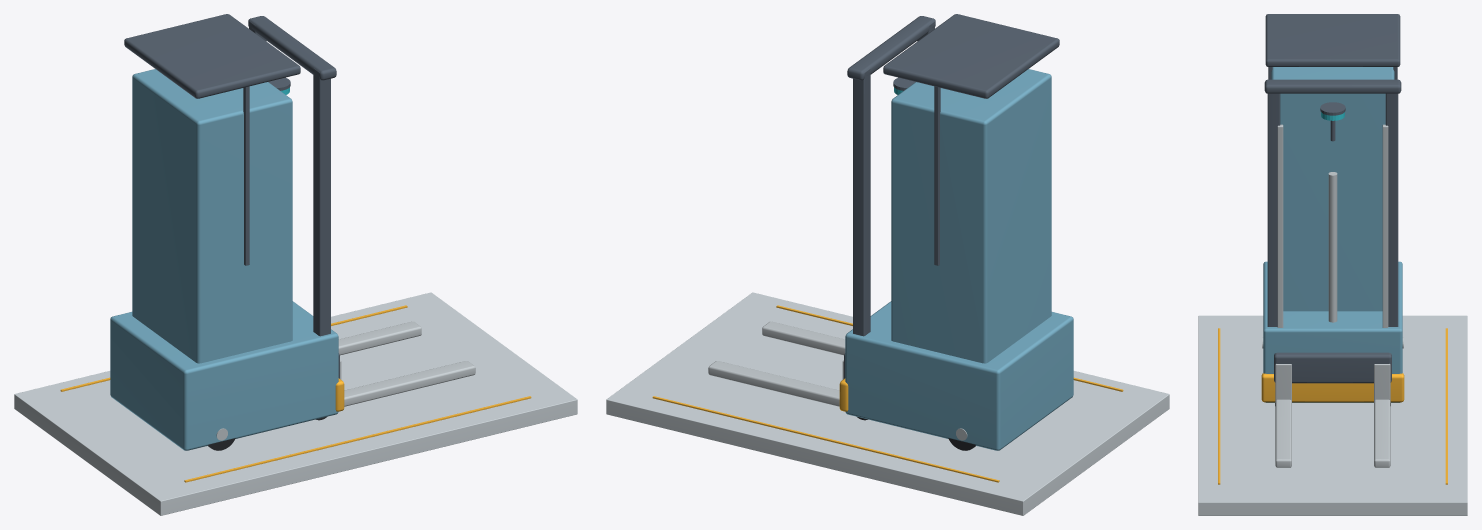
3 renders of one model, left to right at view 1: azimuth 30°, elevation 25°; view 2: azimuth 150°, elevation 25°; view 3: azimuth 270°, elevation 25°, orthographic. The views are drawn at different scales.
Parts seen in each view (by area): view 1: Ground plane, Operator compartment and guard, Power unit, Overhead guard, Lift mast outer rail, Fork tine / pallet handling, Mast crosshead, Fork tine / pallet handling.001, Concept clearance guide, Overhead guard upright; view 2: Ground plane, Operator compartment and guard, Power unit, Overhead guard, Lift mast outer rail.001, Fork tine / pallet handling.001, Mast crosshead, Fork tine / pallet handling, Concept clearance guide.001, Overhead guard upright.001; view 3: Ground plane, Operator compartment and guard, Overhead guard, Power unit, Fork carriage, Lift mast outer rail, Lift mast outer rail.001, Front safety bumper, Mast crosshead, Hydraulic lift cylinder, Lift mast inner rail, Lift mast inner rail.001 (+6 smaller).
Boxes of the visible parts, bbox=[...] form: Ground plane: bbox=[14, 292, 577, 515]; Operator compartment and guard: bbox=[132, 69, 292, 363]; Power unit: bbox=[110, 301, 338, 450]; Overhead guard: bbox=[124, 14, 300, 98]; Lift mast outer rail: bbox=[313, 68, 330, 336]; Fork tine / pallet handling: bbox=[344, 361, 475, 406]; Mast crosshead: bbox=[248, 16, 336, 80]; Fork tine / pallet handling.001: bbox=[338, 321, 421, 355]; Concept clearance guide: bbox=[184, 396, 531, 482]; Overhead guard upright: bbox=[243, 86, 249, 265]; Ground plane: bbox=[606, 292, 1169, 515]; Operator compartment and guard: bbox=[891, 69, 1051, 363]; Power unit: bbox=[845, 301, 1073, 450]; Overhead guard: bbox=[883, 14, 1059, 98]; Lift mast outer rail.001: bbox=[853, 68, 870, 336]; Fork tine / pallet handling.001: bbox=[708, 361, 839, 406]; Mast crosshead: bbox=[847, 16, 935, 80]; Fork tine / pallet handling: bbox=[762, 321, 845, 355]; Concept clearance guide.001: bbox=[652, 396, 999, 482]; Overhead guard upright.001: bbox=[934, 86, 940, 265]; Ground plane: bbox=[1198, 315, 1467, 515]; Operator compartment and guard: bbox=[1271, 67, 1394, 311]; Overhead guard: bbox=[1265, 14, 1400, 66]; Power unit: bbox=[1263, 261, 1402, 402]; Fork carriage: bbox=[1274, 352, 1391, 383]; Lift mast outer rail: bbox=[1267, 93, 1280, 326]; Lift mast outer rail.001: bbox=[1385, 93, 1398, 326]; Front safety bumper: bbox=[1261, 373, 1404, 402]; Mast crosshead: bbox=[1264, 79, 1401, 93]; Hydraulic lift cylinder: bbox=[1328, 172, 1337, 322]; Lift mast inner rail: bbox=[1277, 124, 1283, 327]; Lift mast inner rail.001: bbox=[1382, 124, 1388, 327].
Size of the model in its own units: 3.5 by 3.05 by 2.13.
